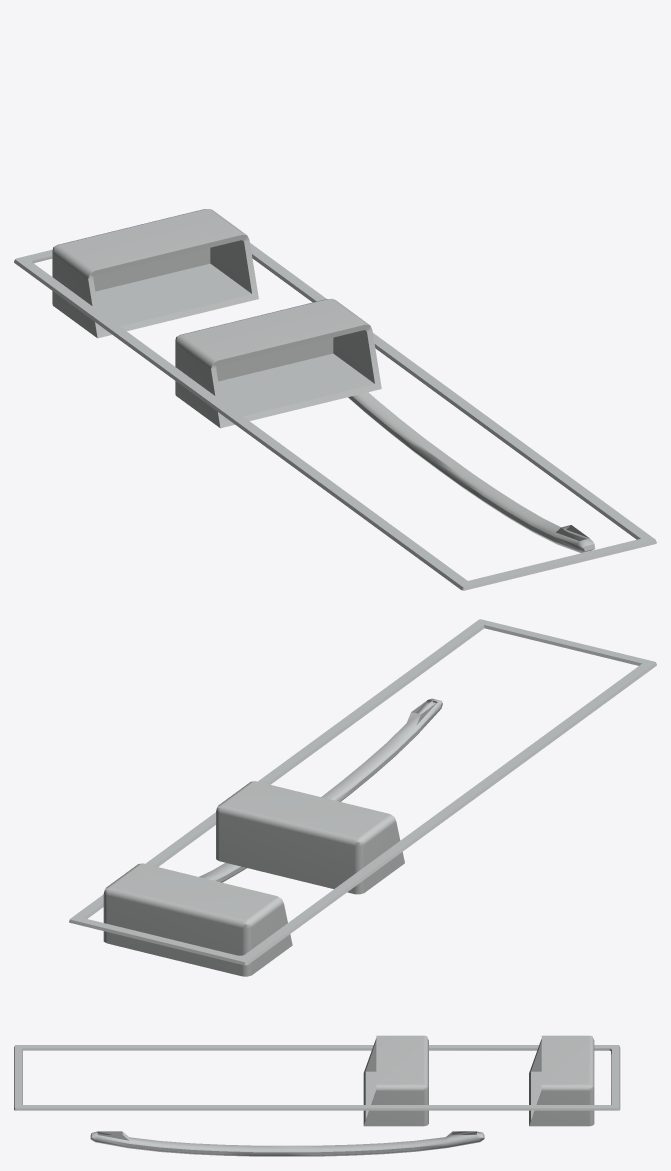
Rendered from MeshFridgeFreezerdoorD4_3_GeomSubset_1.obj.
The picture shows the model from 3 angles, top to bottom: view 1: azimuth 30°, elevation 25°; view 2: azimuth 150°, elevation 25°; view 3: azimuth 270°, elevation 25°; orthographic projection. The views are drawn at different scales.
Visible parts, largest first — view 1: MeshFridgeFreezerdoorD4_3_GeomSubset_1; view 2: MeshFridgeFreezerdoorD4_3_GeomSubset_1; view 3: MeshFridgeFreezerdoorD4_3_GeomSubset_1.
Boxes of the visible parts, bbox=[...] form: MeshFridgeFreezerdoorD4_3_GeomSubset_1: bbox=[14, 209, 656, 590]; MeshFridgeFreezerdoorD4_3_GeomSubset_1: bbox=[69, 619, 656, 976]; MeshFridgeFreezerdoorD4_3_GeomSubset_1: bbox=[14, 1035, 620, 1156].
Size of the model in its own units: 0.4892 by 0.5008 by 1.78.
